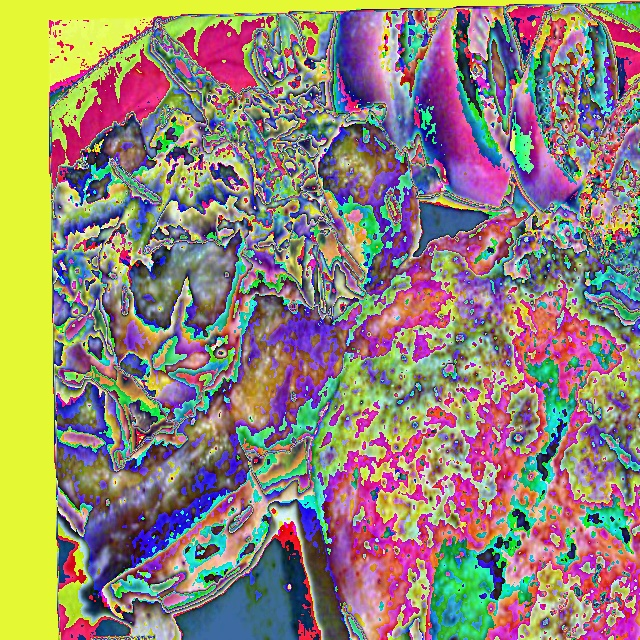background: (52, 5, 639, 639)
